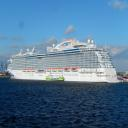cruises: (8, 36, 122, 86)
